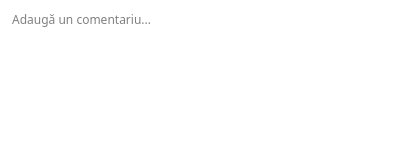
Test: CommentSection › shows comment input when clicking add comment
Click the button "Adaugă un comentariu...": (82, 20) x1=12 y1=12 x2=151 y2=28
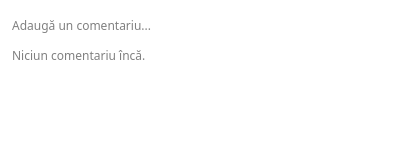
Note: Click add comment button
Click the button "Adaugă un comentariu...": (82, 26) x1=12 y1=18 x2=151 y2=34
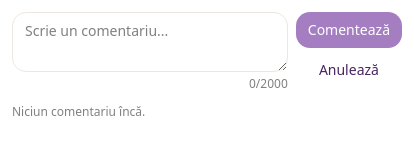
Check: the text box with placeholder "Scrie un comentariu..." is shown, box x1=12 y1=12 x2=288 y2=72
